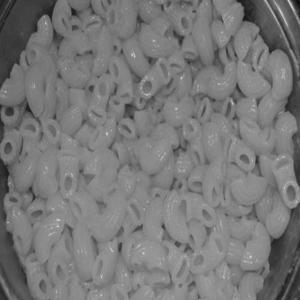pasta: (12, 16, 277, 283)
